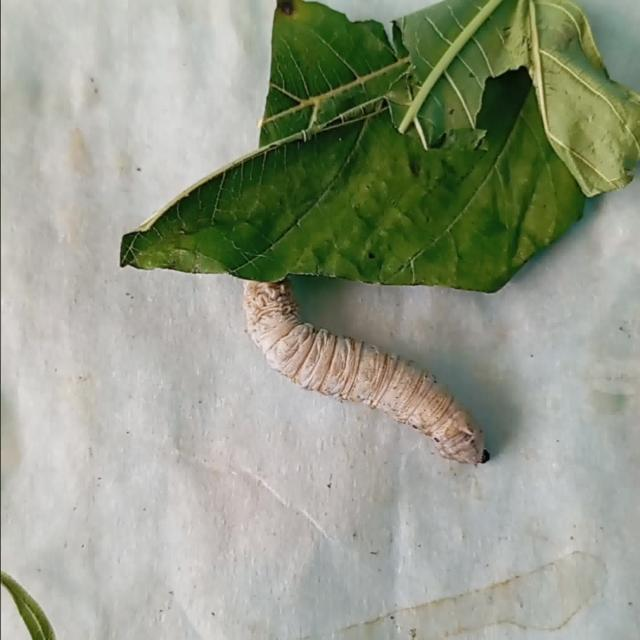Grasserie: (212, 212, 507, 483)
